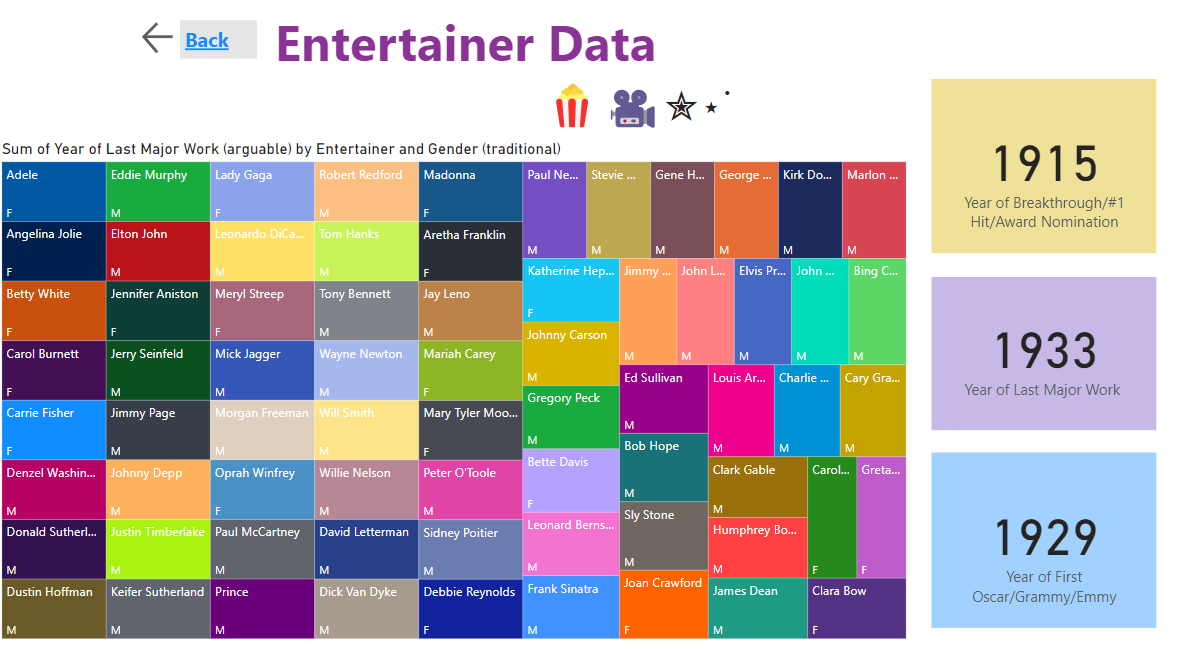

The dashboard page shown, as its layout file describes it:
{"tool":"powerbi","page":{"name":"Page 3","canvas":[1280,720],"ordinal":2},"visuals":[{"type":"textbox","box":[280.1,11.3,544.1,165.2],"z":0},{"type":"group","id":"g1","title":"Group 1","box":[197.5,30.8,82.6,40],"z":1},{"type":"actionButton","box":[152.2,27.5,90.7,43.7],"z":2},{"type":"treemap","fields":{"Group":["Sheet1.Entertainer"],"Details":["Sheet1.Gender (traditional)"],"Values":["Sheet1.Year of Last Major Work (arguable)"]},"box":[0,158.7,986.1,544.1],"z":3},{"type":"card","fields":{"Values":["Sheet1.Year of Last Major Work (arguable)"]},"box":[1008.8,307.7,242.9,165.2],"z":4},{"type":"card","fields":{"Values":["Sheet1.Year of Breakthrough/#1 Hit/Award Nomination"]},"box":[1008.8,93.9,242.9,187.8],"z":5},{"type":"card","fields":{"Values":["Sheet1.Year of First Oscar/Grammy/Emmy"]},"box":[1008.8,497.1,242.9,189.4],"z":6},{"type":"textbox","box":[197.5,30.8,82.6,40],"z":5000,"group":"g1"}]}

Visuals, with their boxes in screenshot pixels (x1, y1, x2, y2), scaled from the page's 1280x720 canvas onto the 1180x649 screenshot:
textbox: {"x1": 258, "y1": 10, "x2": 760, "y2": 159}
"Group 1" group: {"x1": 182, "y1": 28, "x2": 258, "y2": 64}
actionButton: {"x1": 140, "y1": 25, "x2": 224, "y2": 64}
treemap - Sheet1.Entertainer x Sheet1.Gender (traditional): {"x1": 0, "y1": 143, "x2": 909, "y2": 633}
card - Sheet1.Year of Last Major Work (arguable): {"x1": 930, "y1": 277, "x2": 1154, "y2": 426}
card - Sheet1.Year of Breakthrough/#1 Hit/Award Nomination: {"x1": 930, "y1": 85, "x2": 1154, "y2": 254}
card - Sheet1.Year of First Oscar/Grammy/Emmy: {"x1": 930, "y1": 448, "x2": 1154, "y2": 619}
textbox: {"x1": 182, "y1": 28, "x2": 258, "y2": 64}
